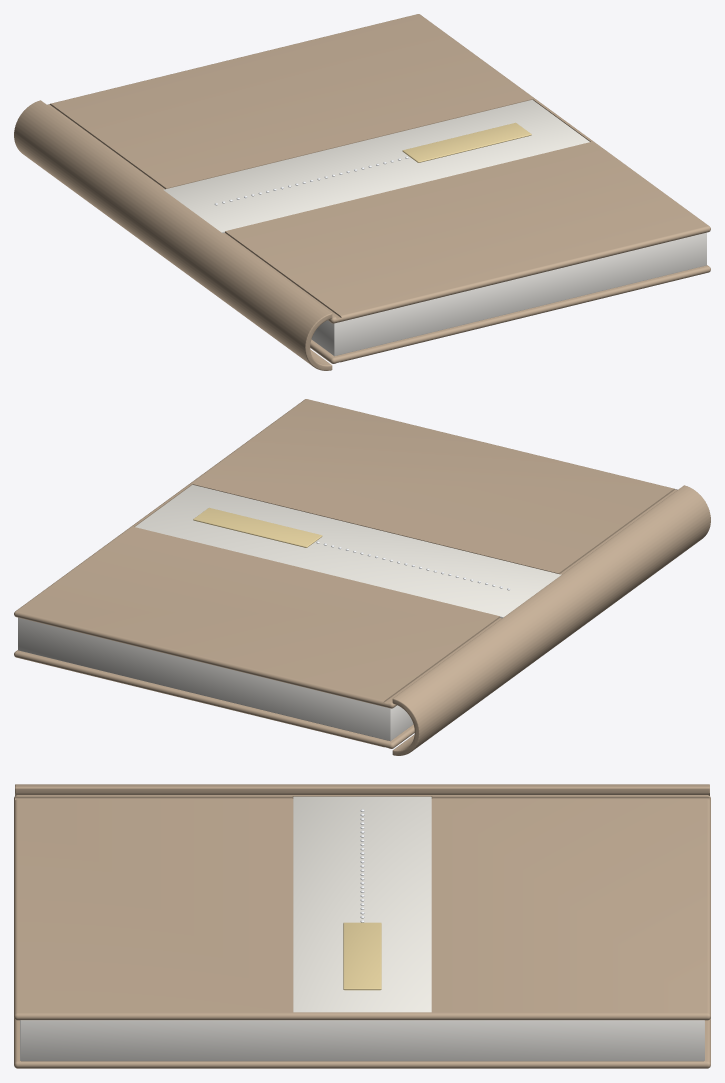
Rendered from fascia--portrait.glb.
The picture shows the model from 3 angles, top to bottom: view 1: azimuth 30°, elevation 25°; view 2: azimuth 150°, elevation 25°; view 3: azimuth 270°, elevation 25°; orthographic projection. The views are drawn at different scales.
Parts seen in each view (by area): view 1: CoverFront, Spine, Band, Pages, CoverBack, Plate; view 2: CoverFront, Spine, Band, Pages, CoverBack, Plate; view 3: CoverFront, Pages, Band, Spine, CoverBack, Plate.
Boxes of the visible parts, left/top/right/bottom form: CoverFront: left=47, top=14, right=710, bottom=323; Spine: left=14, top=100, right=332, bottom=370; Band: left=163, top=99, right=589, bottom=233; Pages: left=311, top=232, right=706, bottom=356; CoverBack: left=310, top=265, right=710, bottom=363; Plate: left=402, top=122, right=531, bottom=162; CoverFront: left=14, top=399, right=677, bottom=708; Spine: left=392, top=485, right=710, bottom=755; Band: left=135, top=484, right=561, bottom=618; Pages: left=18, top=617, right=413, bottom=741; CoverBack: left=14, top=650, right=414, bottom=748; Plate: left=193, top=507, right=322, bottom=547; CoverFront: left=14, top=795, right=710, bottom=1020; Pages: left=20, top=1020, right=704, bottom=1061; Band: left=293, top=796, right=431, bottom=1012; Spine: left=15, top=784, right=709, bottom=795; CoverBack: left=14, top=1018, right=710, bottom=1068; Plate: left=343, top=922, right=381, bottom=990.
Bounding box in the file's own units: 0.3208 × 0.043 × 0.4.
